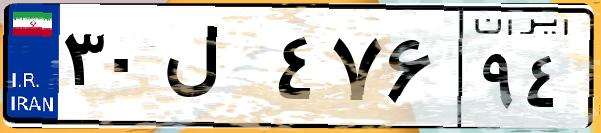0: (110, 28, 158, 98)
3: (57, 26, 110, 100)
4: (270, 28, 330, 110), (525, 38, 570, 115)
6: (385, 28, 445, 110)
7: (330, 28, 385, 110)
9: (475, 38, 525, 113)
ل: (158, 20, 270, 120)
